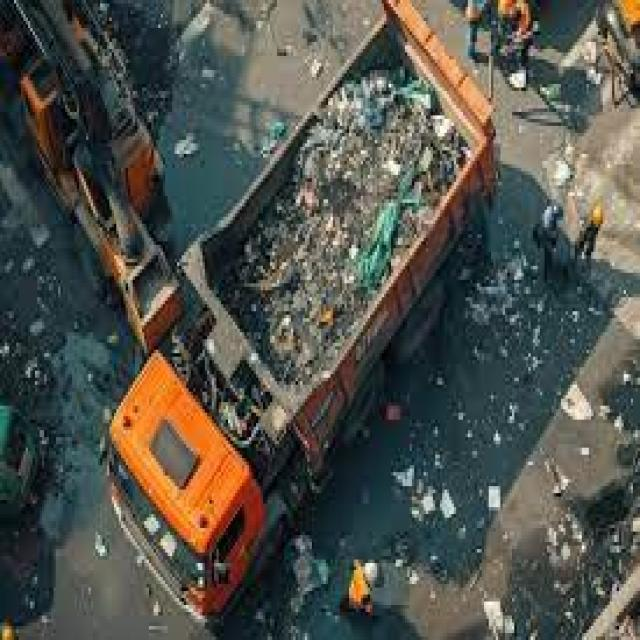uncovered: (177, 18, 506, 468)
